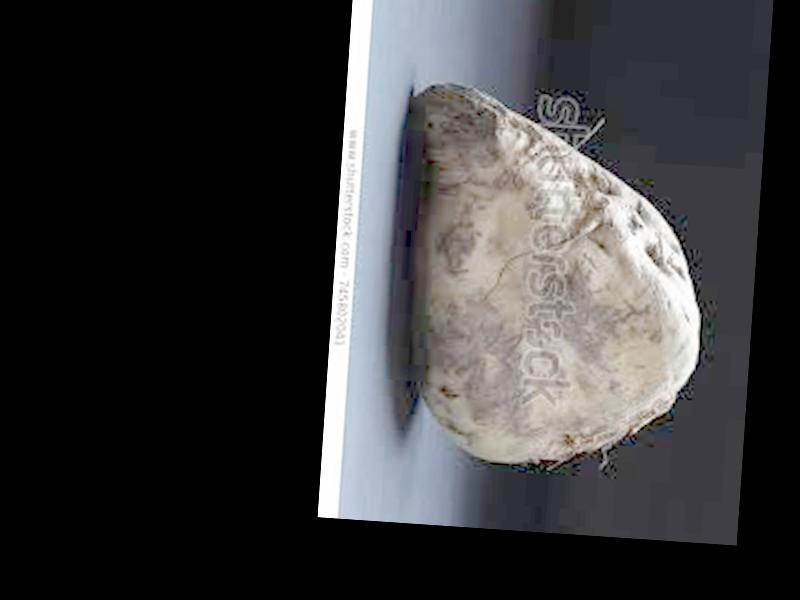Beet: (392, 86, 712, 479)
